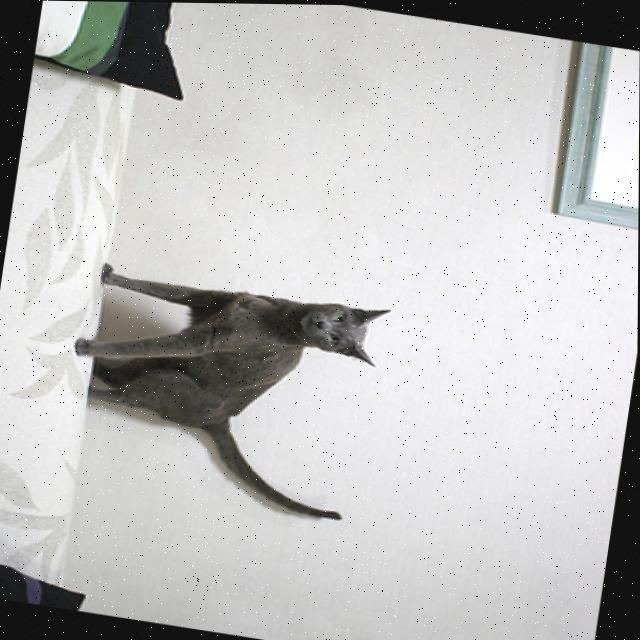Russian Blue: (50, 257, 398, 530)
